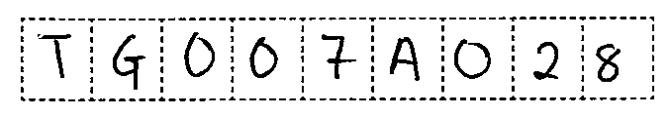0: (448, 35, 496, 87), (180, 29, 221, 85), (246, 34, 286, 85)
2: (528, 36, 566, 88)
7: (315, 29, 359, 83)
8: (592, 37, 627, 89)
A: (384, 30, 426, 88)
G: (108, 32, 149, 94)
T: (31, 27, 80, 86)
